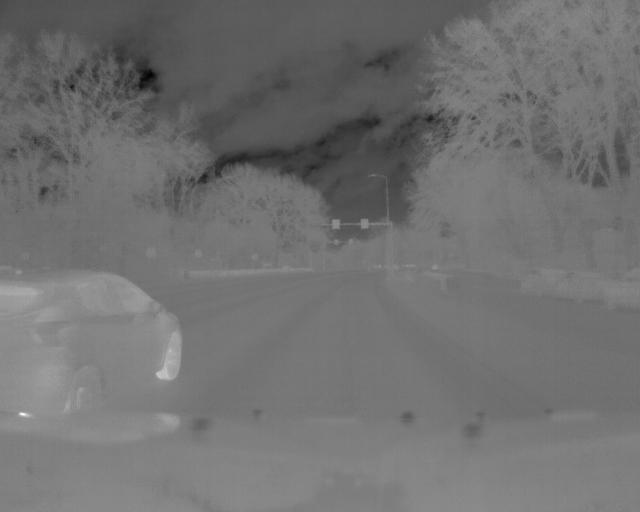car: (2, 260, 189, 396)
